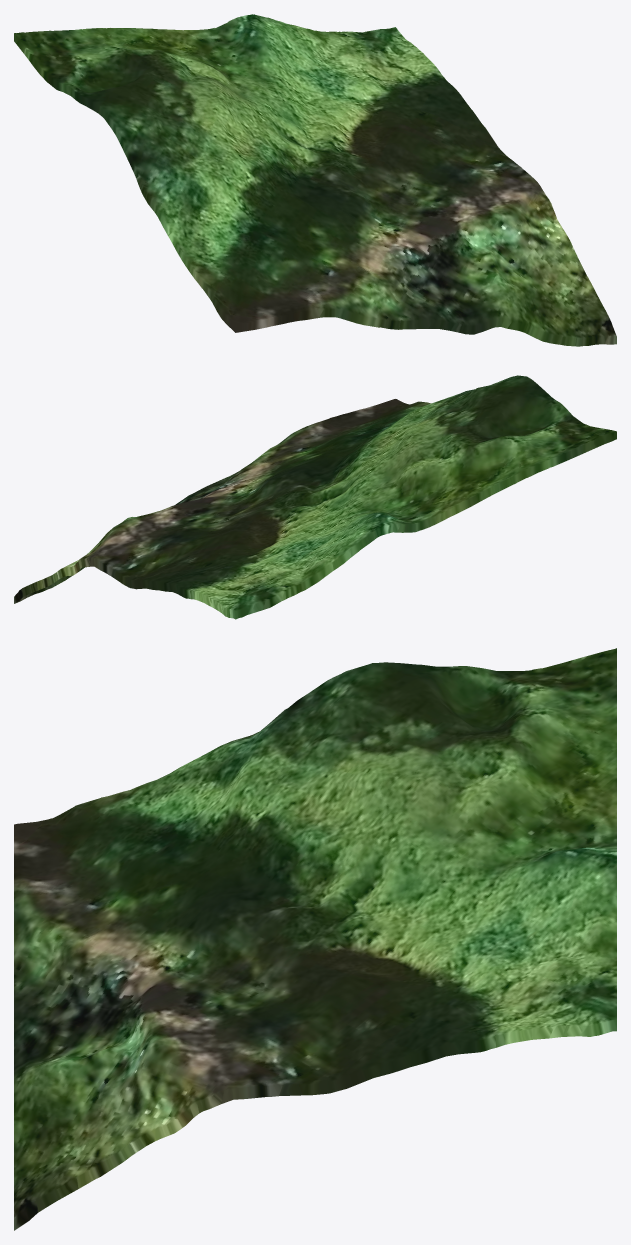
The model's file is z20-167564-405177-h0-yup-uvflip-v3-world.glb.
3 views of the same model, one above another, from view 1: azimuth 30°, elevation 25°; view 2: azimuth 210°, elevation 25°; view 3: azimuth 270°, elevation 25° (orthographic). The views are drawn at different scales.
Size of the model in its own units: 30.16 by 18.28 by 30.32.
1 material, 1 textured.
